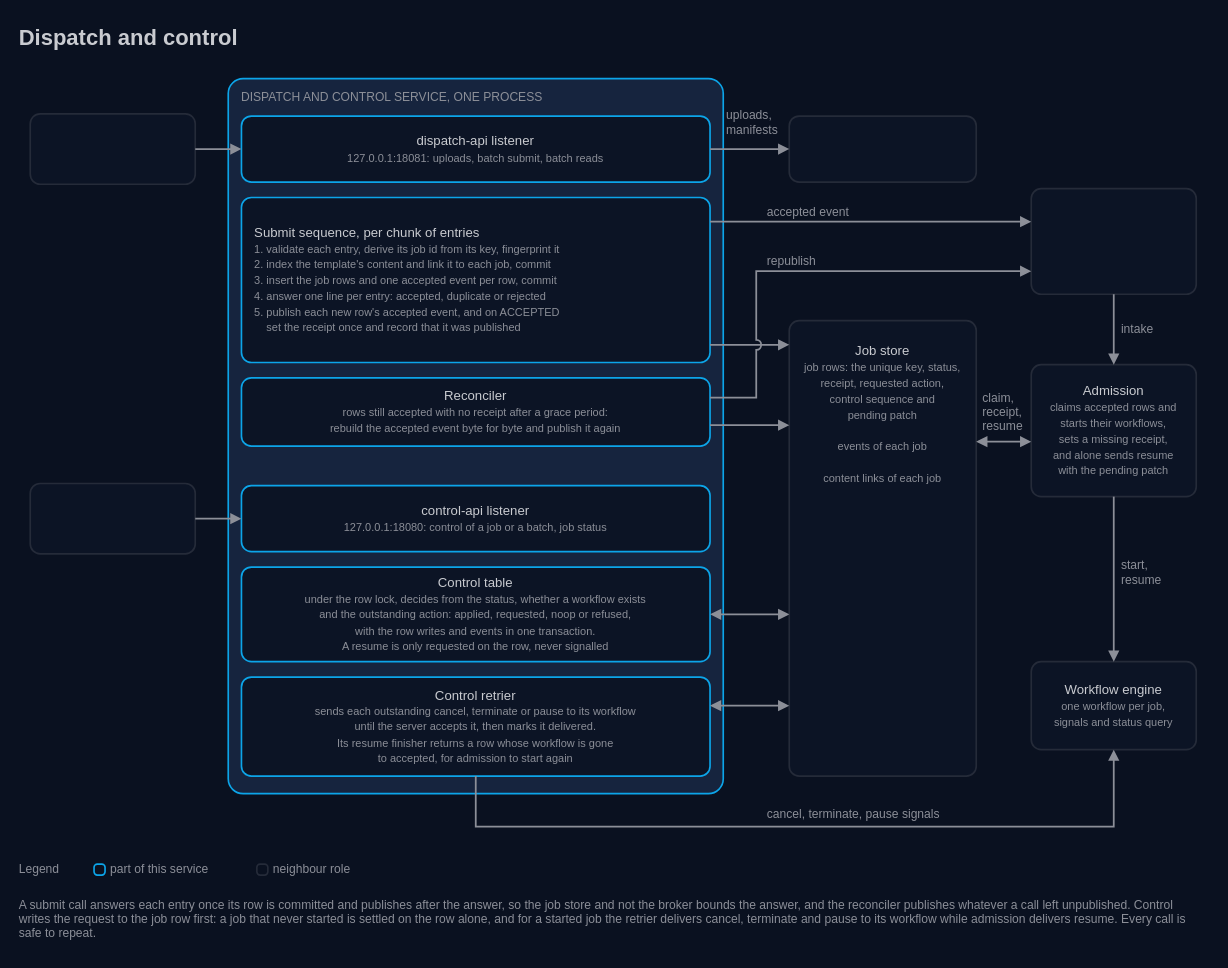
Some shapes in this 1228 by 968 pixel diagram are drawn without their labels. The shapes that lost their labels are listed below. From the top down, each one's centre as x and y in pixels, then its label:
At point 112,149: "Submitter a batch of jobs per call as NDJSON, content uploaded by hash".
At point 882,148: "Object store source bundles, index objects, batch manifests".
At point 1113,241: "Broker an intake queue per tenant and priority class".
At point 112,518: "Operator cancel, terminate, pause, resume, status".
